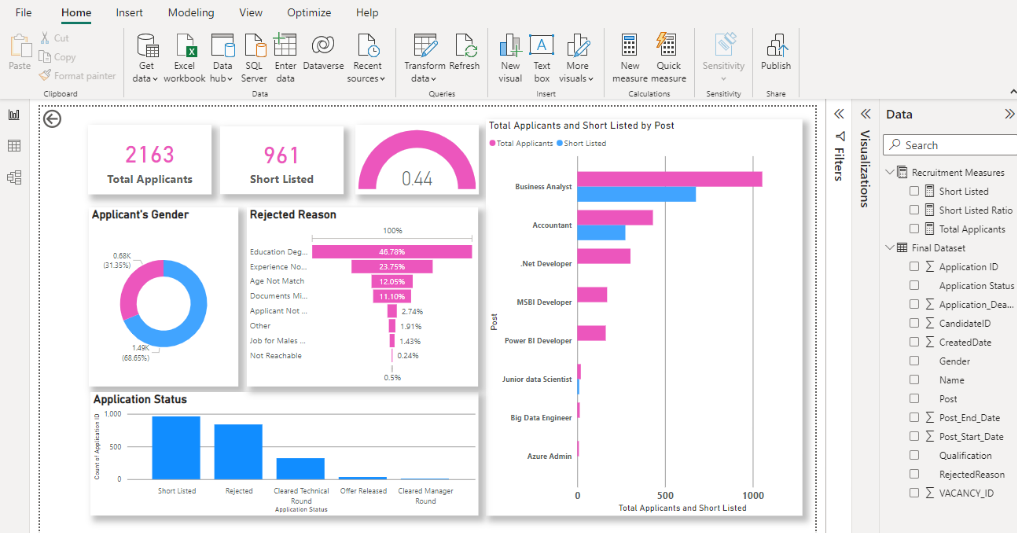

Layout of this report page (visuals, bound fields, positions):
{"tool":"powerbi","page":{"name":"Page 1","canvas":[1280,720],"ordinal":0},"visuals":[{"type":"card","fields":{"Values":["Final Dataset.Total Applicants"]},"box":[79.7,29.9,204.2,114.6],"z":0},{"type":"card","fields":{"Values":["Final Dataset.Short Listed"]},"box":[297.1,31.9,204,112.2],"z":1000},{"type":"gauge","fields":{"Y":["Final Dataset.Short Listed Ratio"]},"box":[520.2,29.3,204,114.7],"z":2000},{"type":"clusteredBarChart","fields":{"Category":["Final Dataset.Post"],"Y":["Final Dataset.Total Applicants","Final Dataset.Short Listed"]},"box":[736.9,20.4,522.7,655.3],"z":3000},{"type":"donutChart","title":"Applicant''s Gender","fields":{"Category":["Final Dataset.Gender"],"Y":["CountNonNull(Final Dataset.Application ID)"]},"box":[80.3,165.7,247.3,295.8],"z":4000},{"type":"actionButton","box":[0,0,100,40],"z":5000},{"type":"clusteredColumnChart","title":"Application Status","fields":{"Category":["Final Dataset.Application Status"],"Y":["CountNonNull(Final Dataset.Application ID)"]},"box":[82.9,471.7,641.3,204],"z":6000},{"type":"funnel","title":"Rejected Reason","fields":{"Category":["Final Dataset.RejectedReason"],"Y":["Divide(CountNonNull(Final Dataset.Gender), ScopedEval(CountNonNull(Final Dataset.Gender), []))"]},"box":[341.7,165.7,382.5,295.8],"z":7000}]}

Visuals, with their boxes on the page's 1280x720 design canvas (x1, y1, x2, y2). These are canvas units, not pixel positions in the 1017x533 screenshot, which may show the page scaled, cropped or inside an application window:
card - Final Dataset.Total Applicants: (left=80, top=30, right=284, bottom=144)
card - Final Dataset.Short Listed: (left=297, top=32, right=501, bottom=144)
gauge - Final Dataset.Short Listed Ratio: (left=520, top=29, right=724, bottom=144)
clusteredBarChart - Final Dataset.Post x Final Dataset.Total Applicants: (left=737, top=20, right=1260, bottom=676)
"Applicant''s Gender" donutChart: (left=80, top=166, right=328, bottom=462)
actionButton: (left=0, top=0, right=100, bottom=40)
"Application Status" clusteredColumnChart: (left=83, top=472, right=724, bottom=676)
"Rejected Reason" funnel: (left=342, top=166, right=724, bottom=462)
